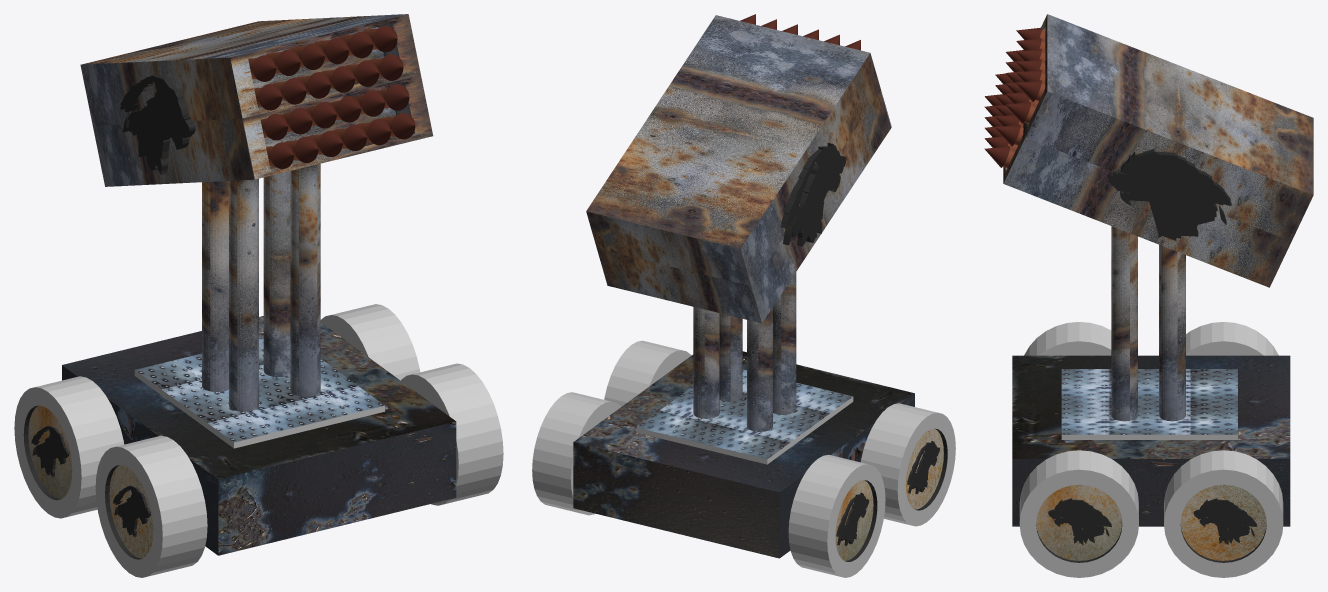
The model's file is Balista-dalekosiężny-woz.fbx.
The picture shows the model from 3 angles, left to right: view 1: azimuth 30°, elevation 25°; view 2: azimuth 150°, elevation 25°; view 3: azimuth 270°, elevation 25°; orthographic projection. The views are drawn at different scales.
Visible parts, largest first — view 1: kabina, podstawa, rakiety, koła.001, koła.002, metalowa podstawa, koła.004, koła.003; view 2: kabina, podstawa, koła.002, koła.001, metalowa podstawa, koła.003, koła.004, rakiety; view 3: kabina, podstawa, koła.003, koła.004, metalowa podstawa, rakiety, koła.002, koła.001.
Part boxes in pixels (box(x1,y1,x2,y2)): kabina: box(80, 14, 433, 411); podstawa: box(62, 316, 456, 555); rakiety: box(248, 25, 415, 168); koła.001: box(95, 435, 207, 577); koła.002: box(14, 376, 124, 518); metalowa podstawa: box(134, 338, 384, 448); koła.004: box(401, 363, 503, 505); koła.003: box(320, 304, 420, 380); kabina: box(586, 15, 891, 431); podstawa: box(573, 351, 914, 558); koła.002: box(788, 454, 885, 577); koła.001: box(860, 403, 955, 526); metalowa podstawa: box(636, 369, 853, 464); koła.003: box(532, 392, 620, 515); koła.004: box(604, 340, 691, 406); rakiety: box(740, 14, 860, 50); kabina: box(1003, 14, 1313, 421); podstawa: box(1012, 355, 1290, 526); koła.003: box(1164, 450, 1283, 577); koła.004: box(1019, 450, 1138, 577); metalowa podstawa: box(1061, 369, 1237, 439); rakiety: box(984, 27, 1045, 167); koła.002: box(1186, 322, 1278, 355); koła.001: box(1024, 322, 1111, 355).
Bounding box in the file's own units: 659 × 620 × 940.
